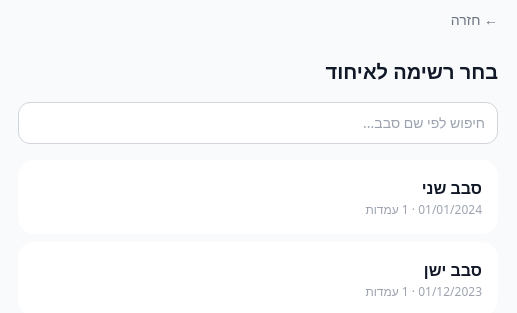
it: UniteListPickerScreen — list contents › search box filters results by round name
Type "שני" into the field with placeholder "חיפוש לפי שם סבב...". click: (258, 123)
box: [18, 102, 498, 144]
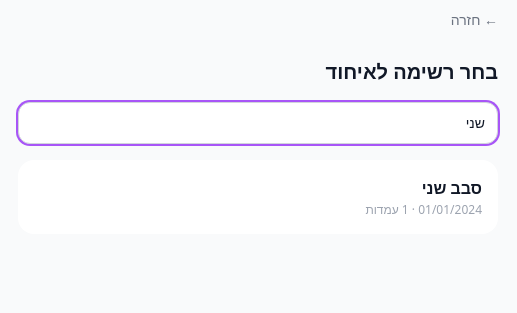
Expected: the text "סבב שני" is shown, [422, 177, 482, 199]
Now the button "סבב ישן" is gone
